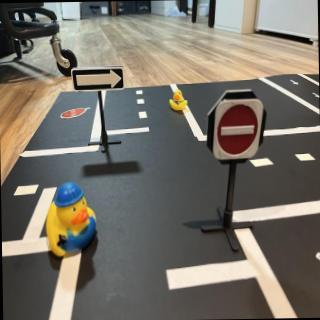duck_regular: (169, 88, 190, 112)
duck_specialty: (45, 183, 98, 261)
sign_noentry: (215, 100, 263, 162)
sign_oneway_right: (73, 66, 125, 92)
